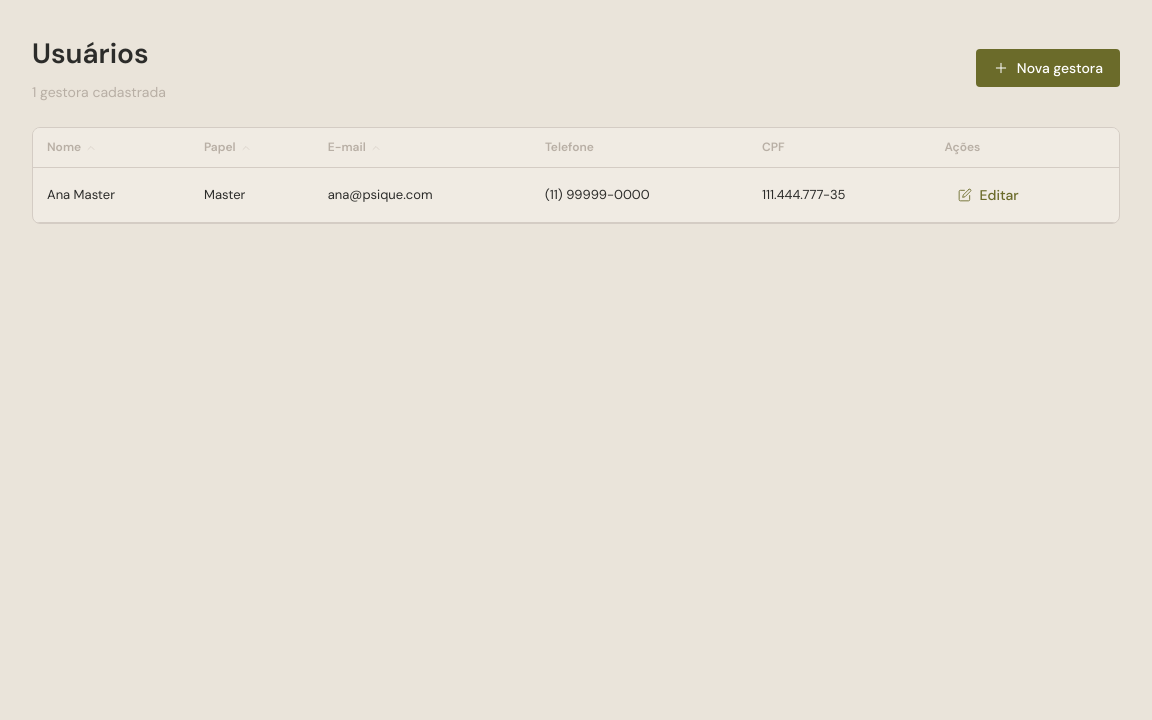
Scenario: Usuarios › caso válido: botão Editar abre o modal preenchido e salva via editarUsuario
Click the button "Editar".
click(988, 195)  # box left=944, top=178, right=1032, bottom=212
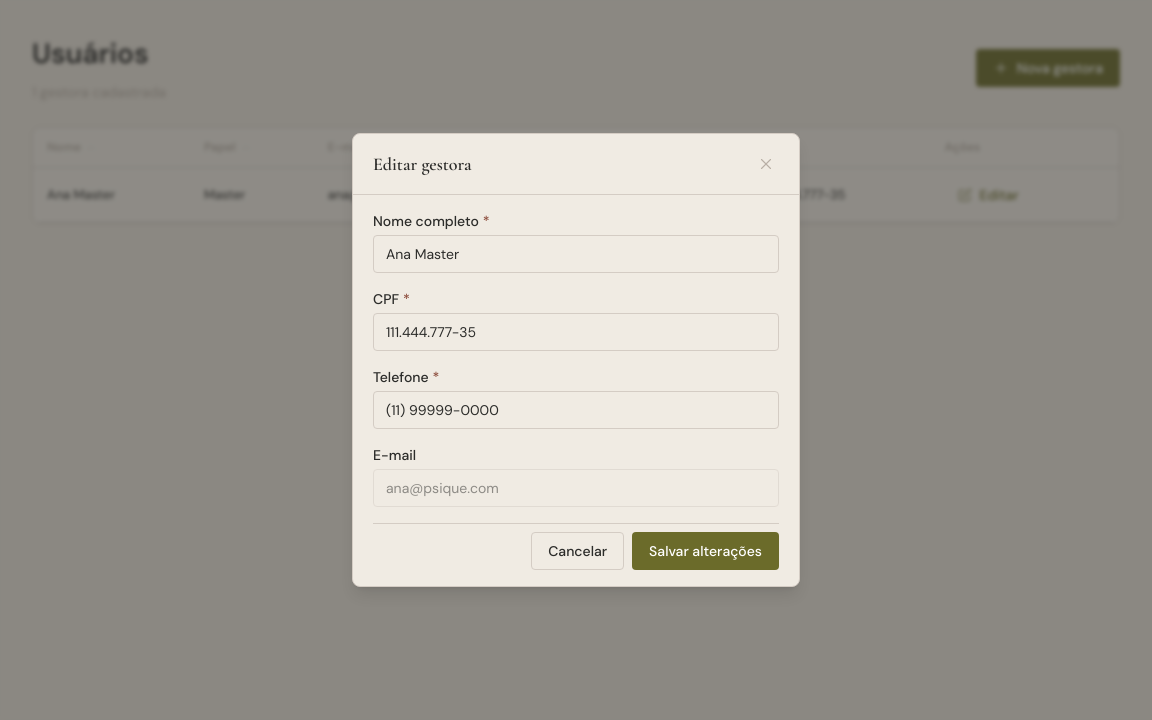
Replace the text in the field labelled "Nome completo*" with "Ana Editada" at x=576, y=254, box left=373, top=235, right=779, bottom=273
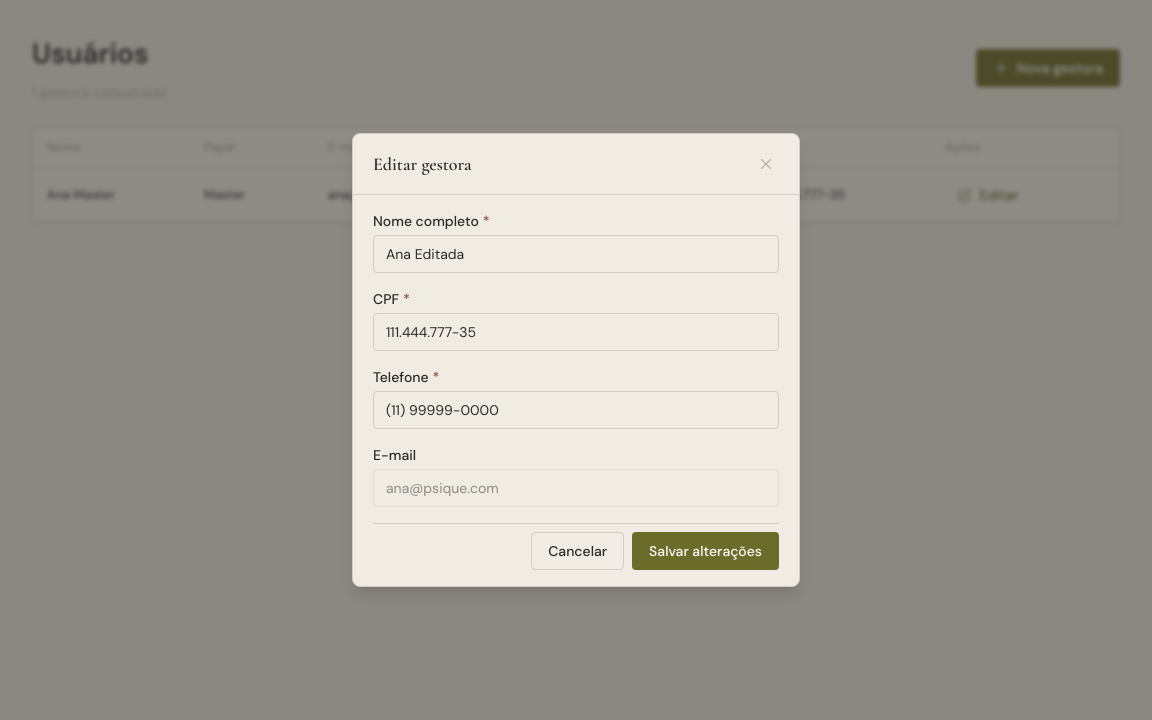
Click the button "Salvar alterações".
click(706, 551)  # box left=632, top=532, right=779, bottom=570
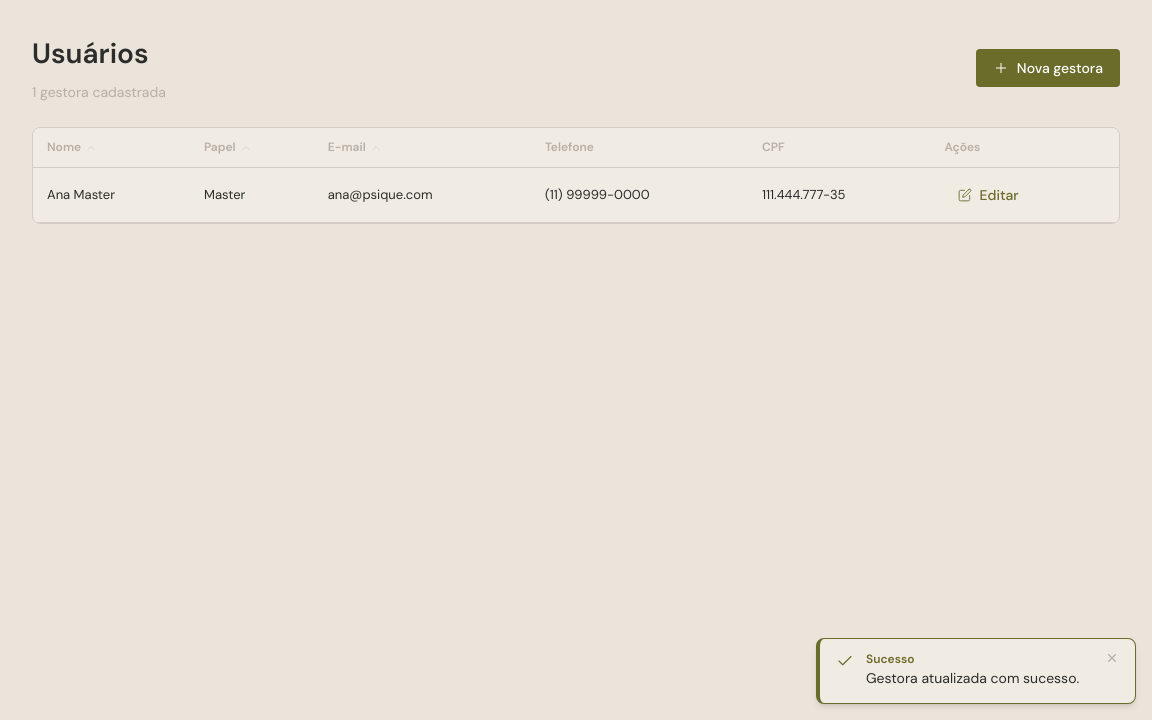
Check: the text "Gestora atualizada com sucesso." is shown, box left=866, top=669, right=1093, bottom=688
